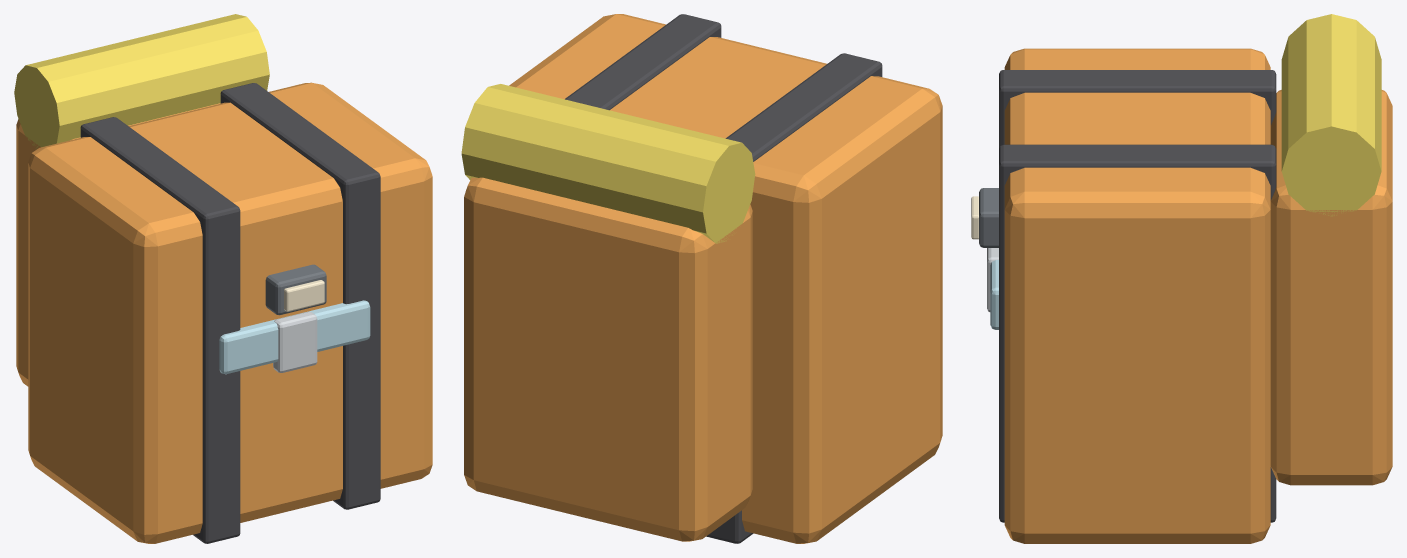
The model's file is SM_ResponderKit_Rescue.fbx.
The picture shows the model from 3 angles, left to right: view 1: azimuth 30°, elevation 25°; view 2: azimuth 150°, elevation 25°; view 3: azimuth 270°, elevation 25°; orthographic projection. The views are drawn at different scales.
Parts seen in each view (by area): view 1: RescueHarnessAndPack, RescueHelmet; view 2: RescueHarnessAndPack; view 3: RescueHarnessAndPack, RescueHelmet.
Boxes of the visible parts, <box> form: RescueHarnessAndPack: <box>14,14,432,543</box>; RescueHelmet: <box>219,264,370,374</box>; RescueHarnessAndPack: <box>461,14,942,543</box>; RescueHarnessAndPack: <box>987,14,1392,543</box>; RescueHelmet: <box>971,188,998,329</box>.
Bounding box in the file's own units: 34 × 38 × 40.5.
